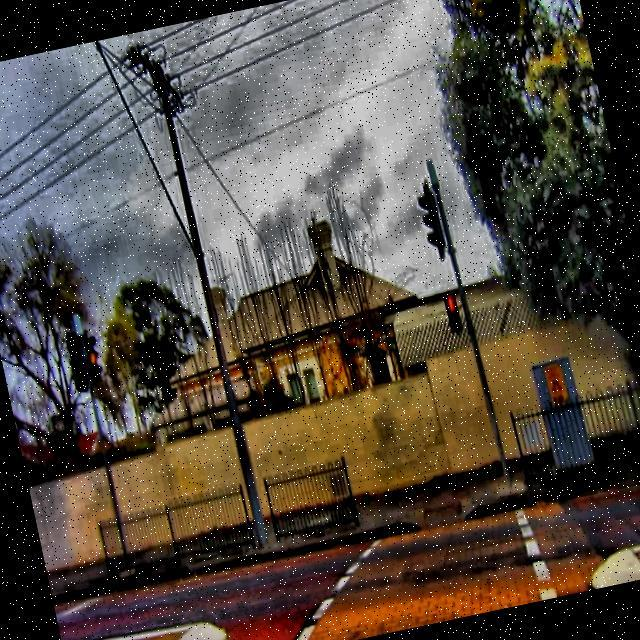red_light: (444, 292, 456, 313)
